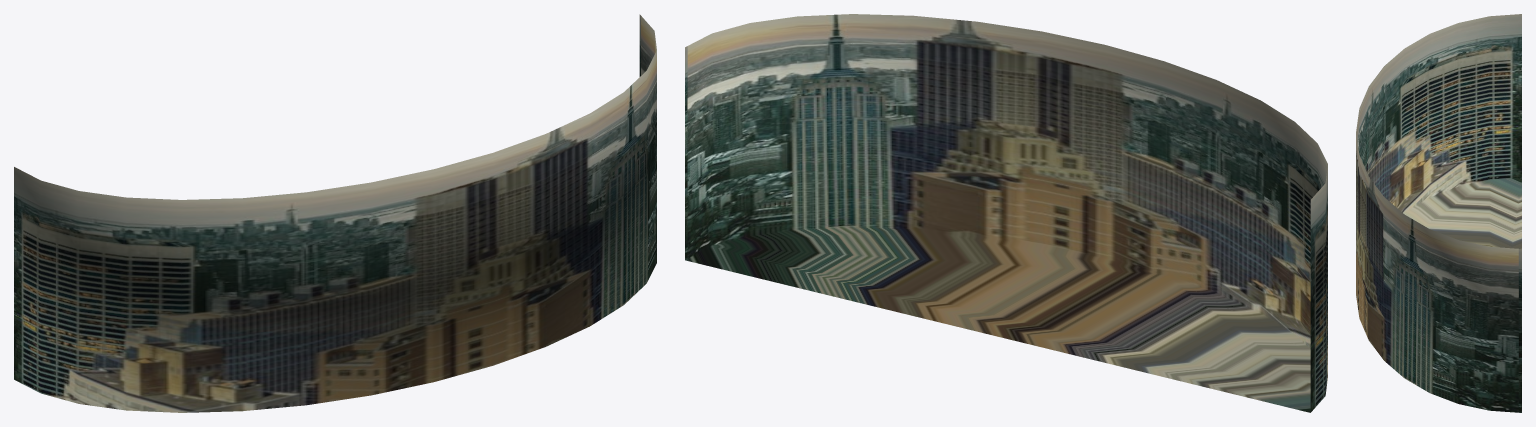
The model's file is SM_City.glb.
3 views of the same model, side by side, from view 1: azimuth 30°, elevation 25°; view 2: azimuth 150°, elevation 25°; view 3: azimuth 270°, elevation 25° (orthographic). The views are drawn at different scales.
Parts seen in each view (by area): view 1: Back wall; view 2: Back wall; view 3: Back wall.
Boxes of the visible parts, x1,y1,x2,y2 form: Back wall: (14, 14, 656, 412); Back wall: (685, 14, 1327, 412); Back wall: (1356, 14, 1521, 412).
Bounding box in the file's own units: 4.34 × 1.41 × 1.29.
1 material, 1 textured.
